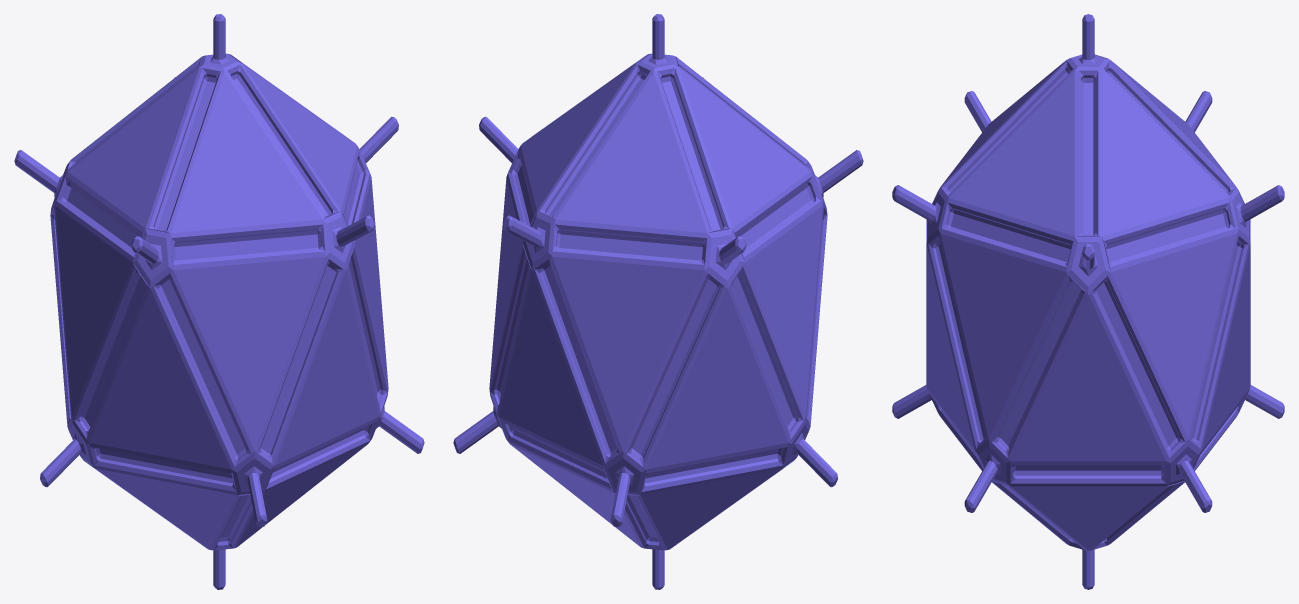
File: bacteria.fbx
3 views of the same model, side by side, from view 1: azimuth 30°, elevation 25°; view 2: azimuth 150°, elevation 25°; view 3: azimuth 270°, elevation 25° (orthographic).
Visible parts, largest first — view 1: Icosphere; view 2: Icosphere; view 3: Icosphere.
Part boxes in pixels (left/top/right/bottom): Icosphere: left=14, top=14, right=424, bottom=589; Icosphere: left=453, top=14, right=863, bottom=589; Icosphere: left=892, top=14, right=1284, bottom=589.
Bounding box in the file's own units: 91.2 × 140 × 86.73.
